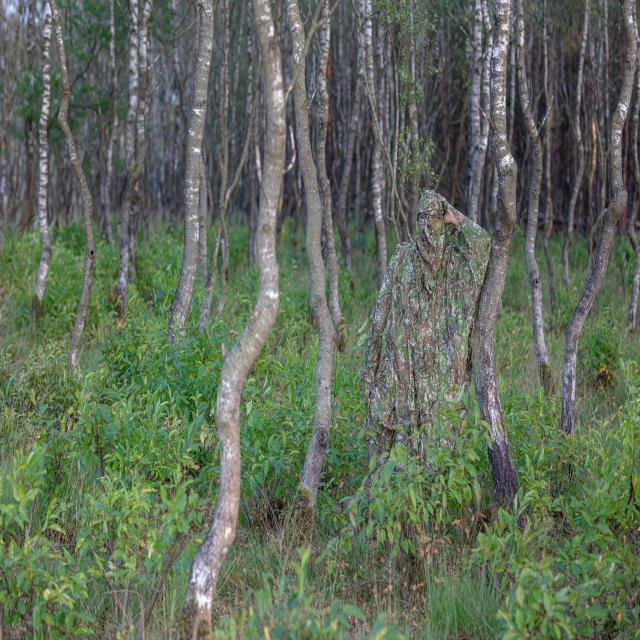camouflaged: (360, 189, 491, 455)
